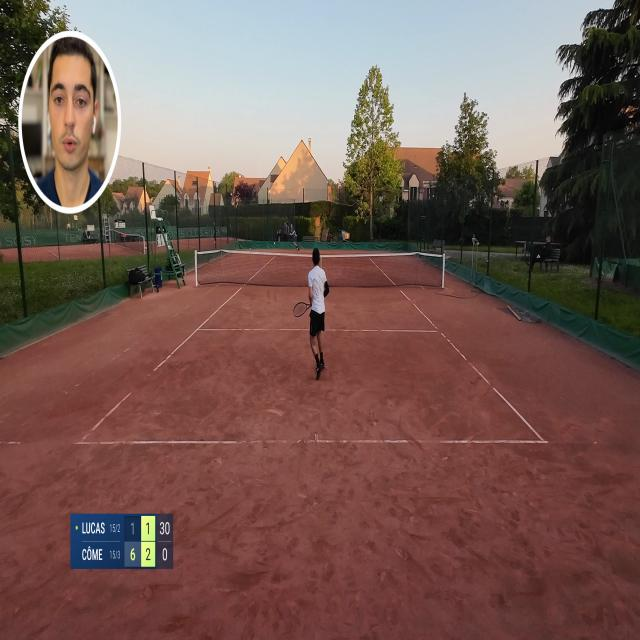ball: (274, 242, 276, 245)
